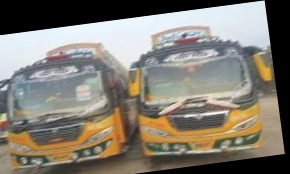bus: (124, 28, 274, 164), (0, 40, 138, 173)
